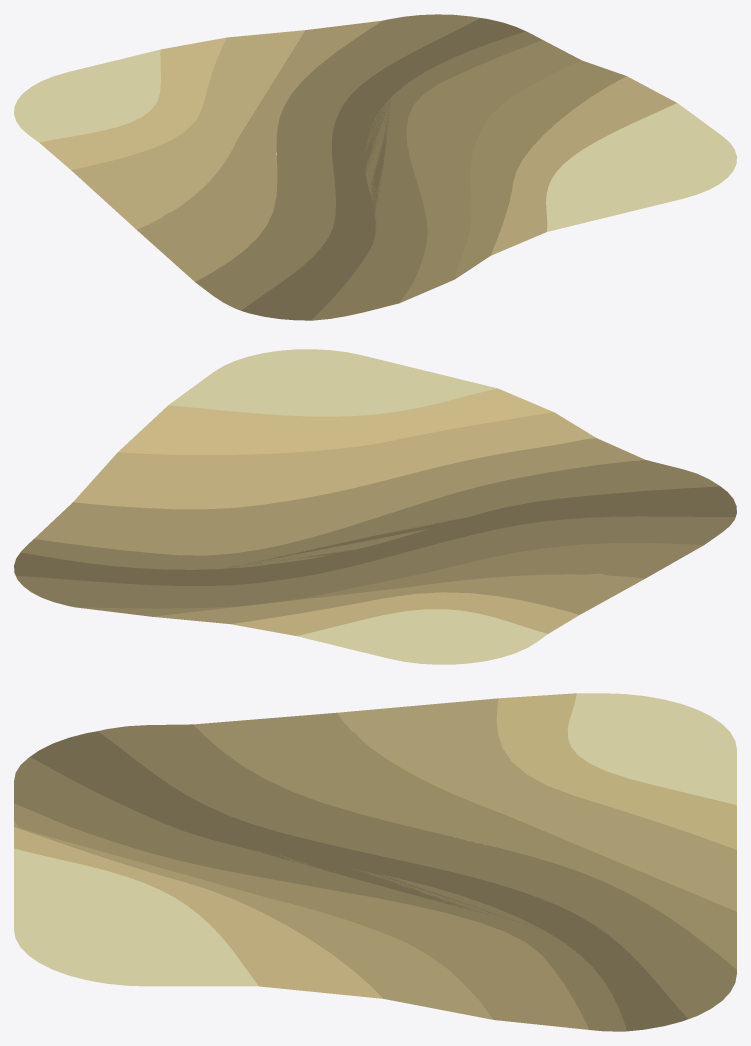
Rendered from _EnvDunes.fbx.
The picture shows the model from 3 angles, top to bottom: view 1: azimuth 30°, elevation 25°; view 2: azimuth 150°, elevation 25°; view 3: azimuth 270°, elevation 25°; orthographic projection. The views are drawn at different scales.
Parts seen in each view (by area): view 1: Ground.001; view 2: Ground.001; view 3: Ground.001.
Part boxes in pixels (x1,y1,x2,y2): Ground.001: (14,14,736,320); Ground.001: (14,349,736,664); Ground.001: (14,693,736,1031).
Size of the model in its own units: 0.19 by 0.0133 by 0.19.
